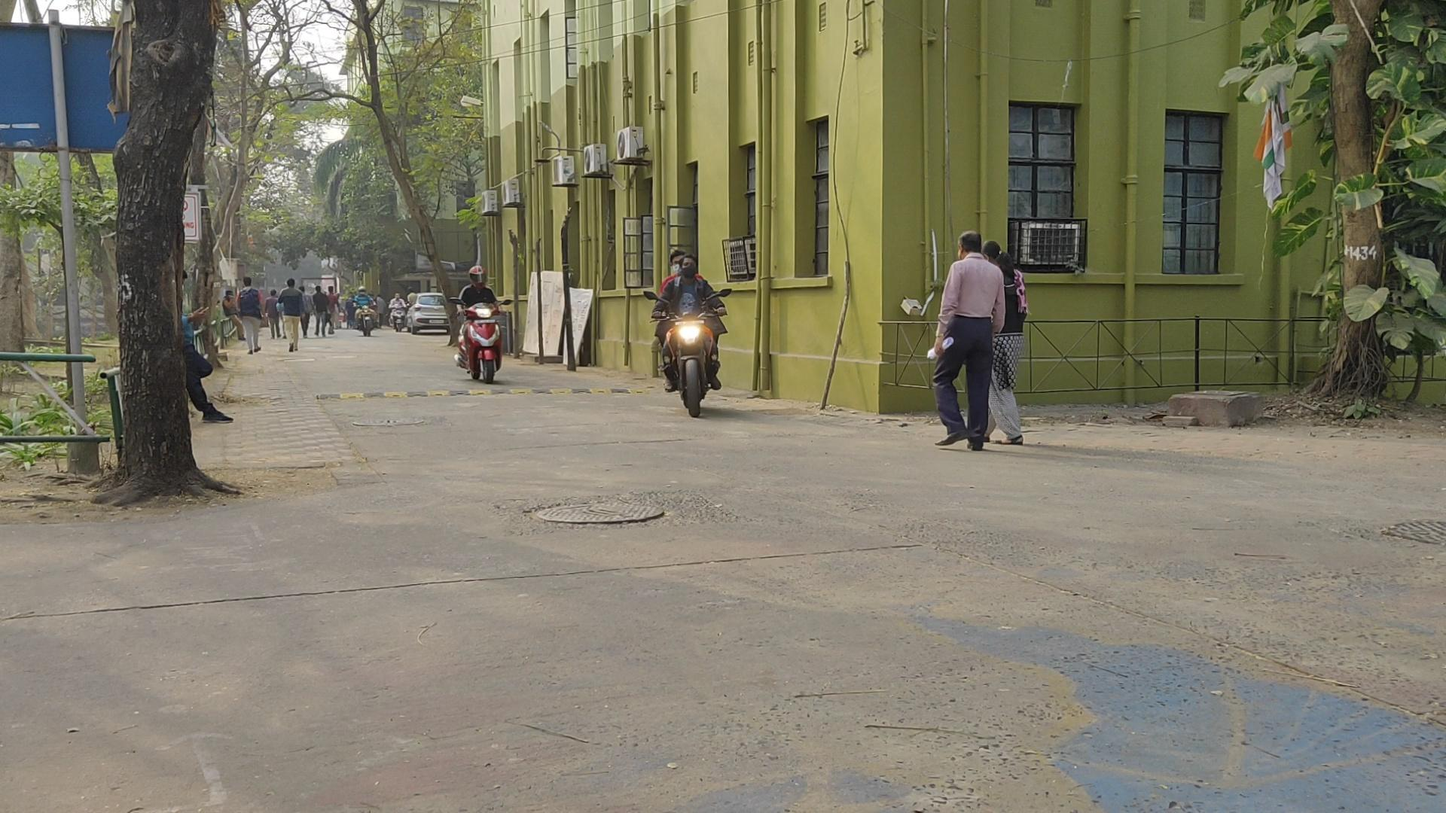bike: (655, 252, 723, 419), (453, 265, 503, 384), (352, 285, 379, 336), (386, 293, 409, 333)
car: (406, 293, 453, 336)
